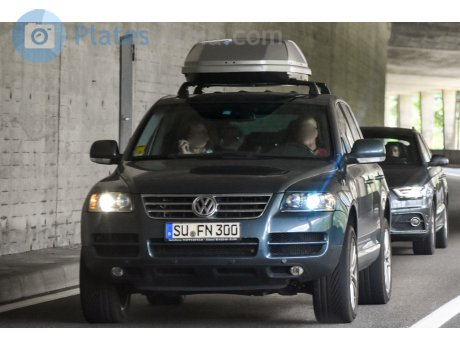License Plates: (173, 222, 241, 237)
